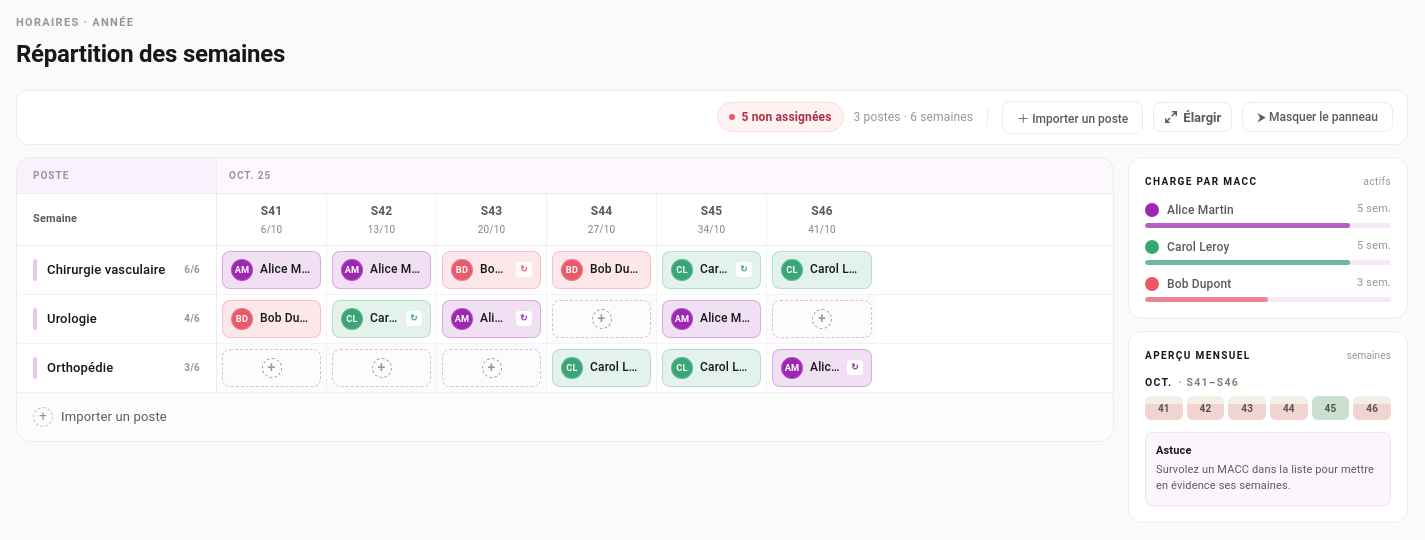
Test: WeekScheduleTable — badge navigation cyclique › affiche 1/5 après le premier clic
Click the text "5 non assignées" at (780, 117), box [718,102,844,132]
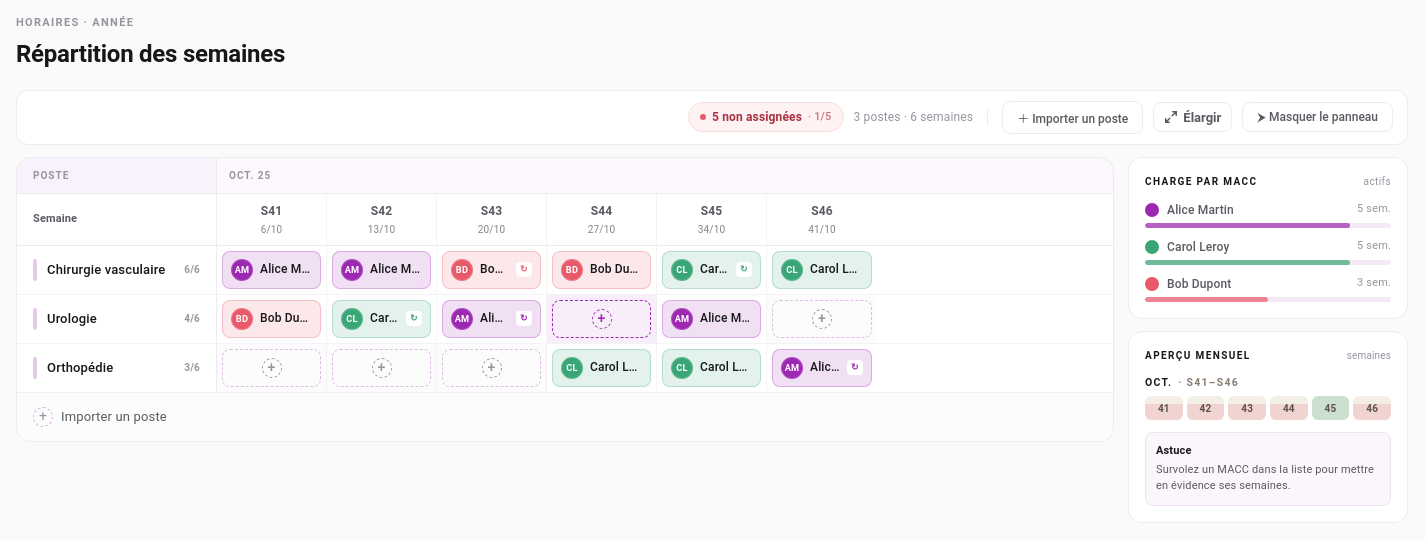
Expected: the text "· 1/5" is shown, [808,109,832,125]
